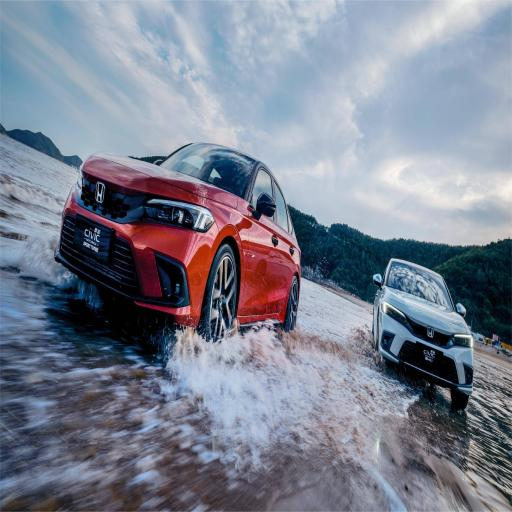Sedan-sDLz: (55, 143, 300, 342), (372, 259, 473, 408)
